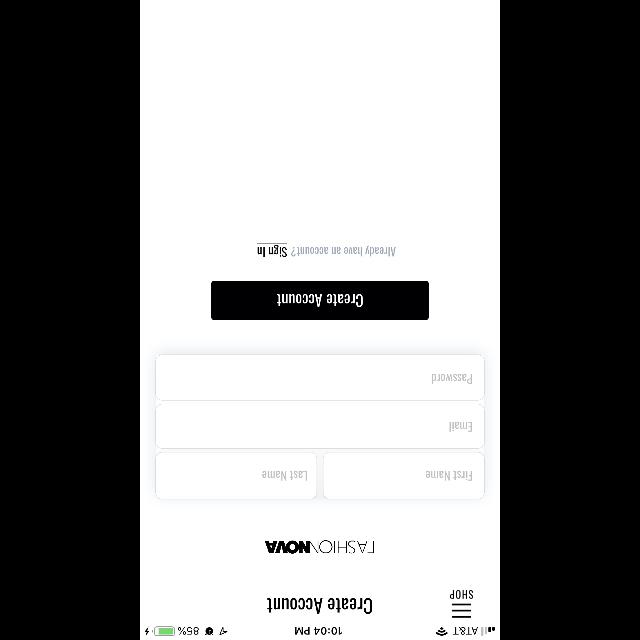icon: (452, 603, 471, 617)
image: (264, 540, 374, 554)
input: (156, 354, 484, 400), (156, 404, 484, 448), (156, 452, 316, 500), (322, 452, 483, 498)
text: (268, 598, 372, 614), (291, 246, 395, 256), (426, 470, 472, 480), (256, 243, 288, 257), (262, 470, 306, 480), (432, 374, 472, 384), (450, 421, 472, 431), (450, 590, 472, 598)
textbutton: (212, 280, 428, 320)
uppertaskbar: (140, 626, 500, 640)
